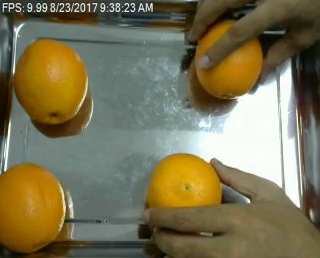Orange: (13, 38, 89, 124), (1, 162, 67, 253)
